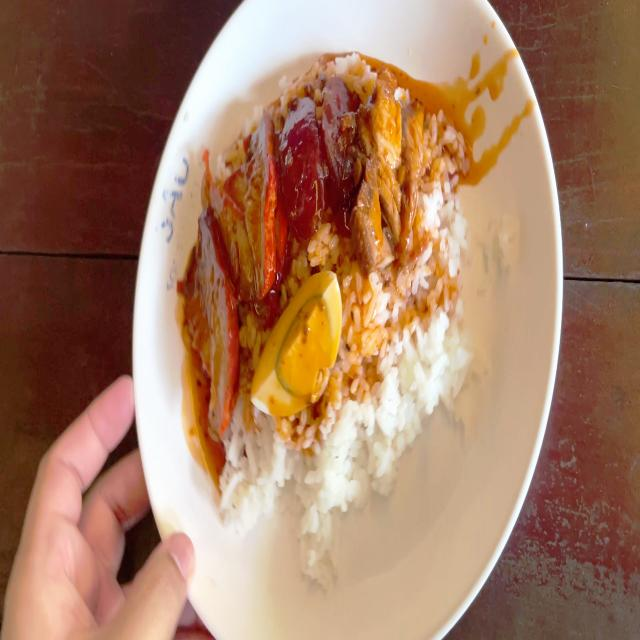boiled_egg: (250, 276, 340, 416)
chainese_sausage: (286, 86, 356, 227)
crispy_pork: (365, 76, 423, 262)
red_pork: (194, 124, 276, 424)
red_pork_and_crispy_pork: (181, 67, 475, 514)
rice: (345, 269, 466, 433), (227, 419, 395, 523), (426, 125, 461, 274)
